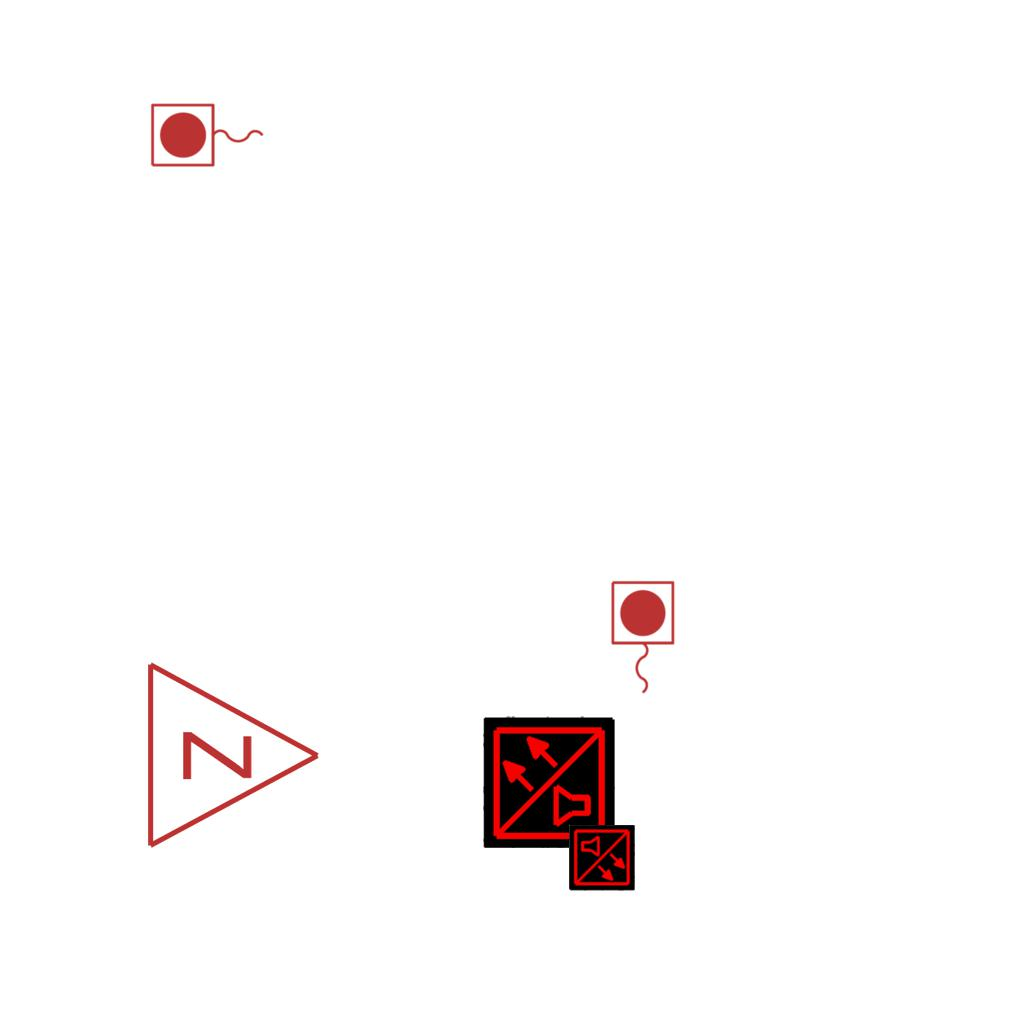OKW_Multisensormelder_(Kombination_optischer_Rauch-Kahlenmonoxid_Waerme-Melder): (483, 716, 615, 848), (569, 825, 635, 891)
Zimmersignalleuchte: (133, 655, 333, 851)
Zugtaster: (147, 100, 269, 172), (606, 577, 678, 699)
